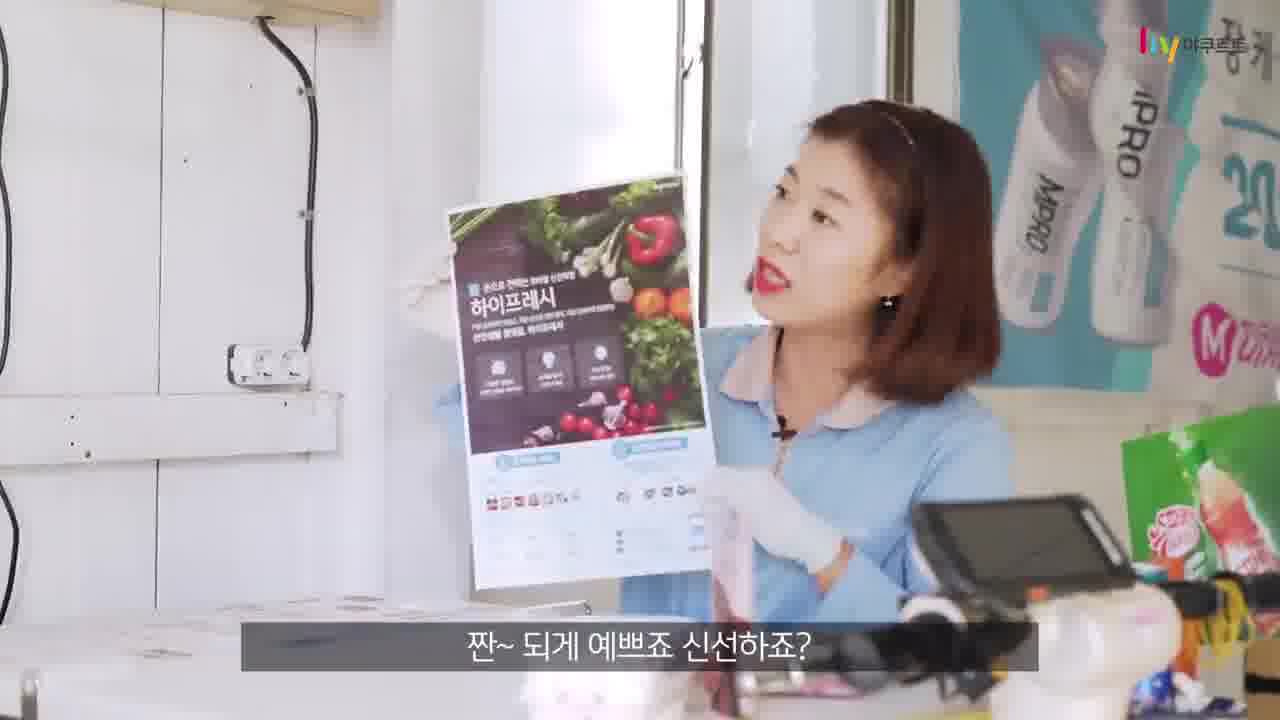Yakurut: (668, 83, 1074, 628)
